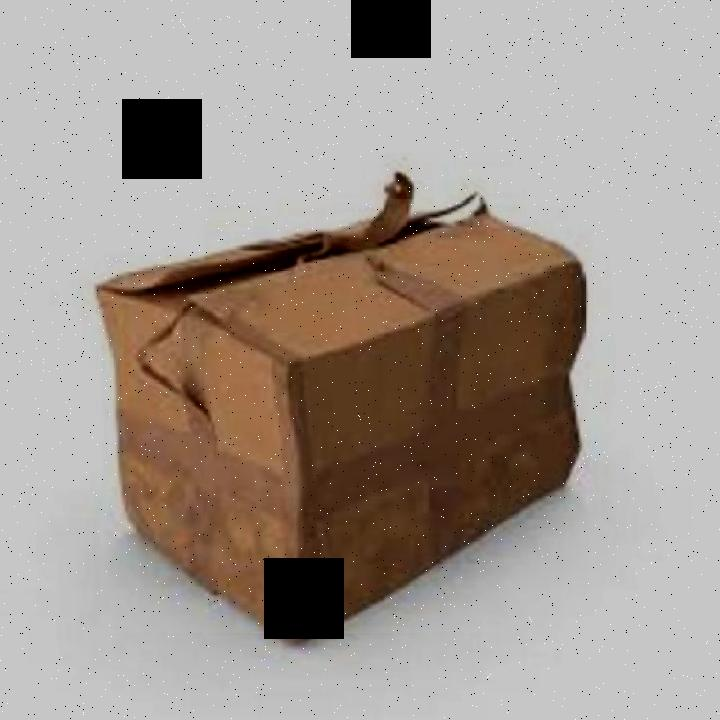box: (100, 199, 601, 633)
